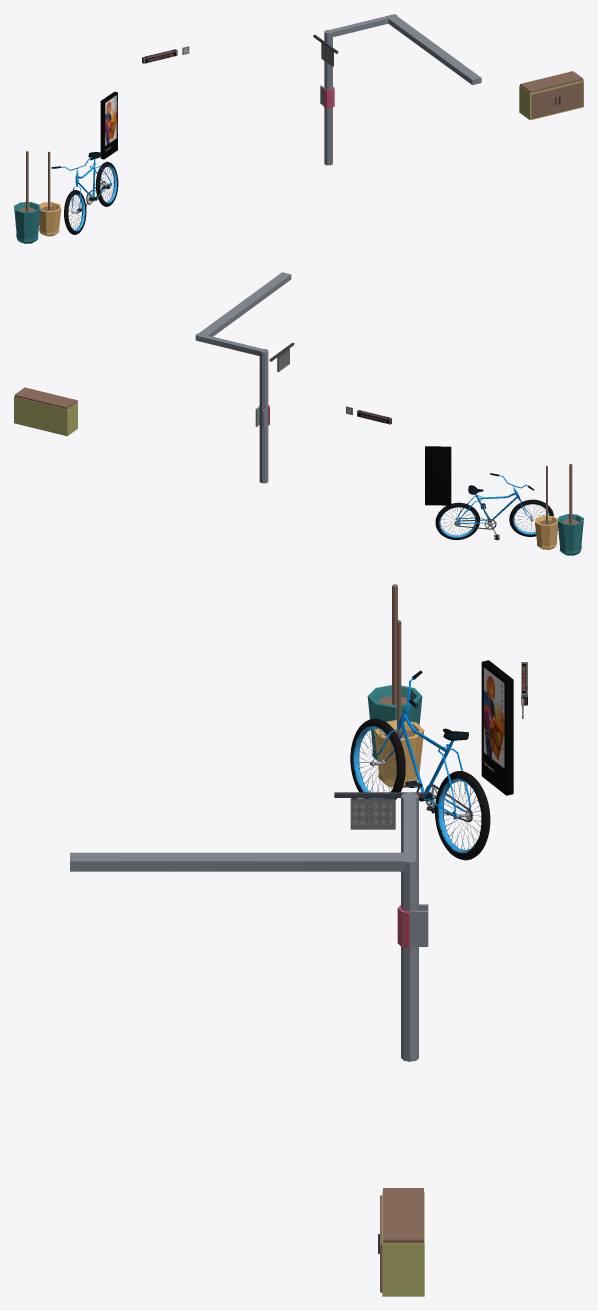
The model's file is MP_Corridor_Decor.fbx.
The picture shows the model from 3 angles, top to bottom: view 1: azimuth 30°, elevation 25°; view 2: azimuth 150°, elevation 25°; view 3: azimuth 270°, elevation 25°; orthographic projection. The views are drawn at different scales.
Parts seen in each view (by area): view 1: Pipe, ShoeDrawer, Blue Bicycle, Pot, Digital_Screen, Pots, Hanging_Signage; view 2: Pipe, ShoeDrawer, Blue Bicycle, Digital_Screen, Pot, Pots; view 3: Pipe, Blue Bicycle, ShoeDrawer, Digital_Screen, Pots, Pot, Hanging_Signage.
Part boxes in pixels (bbox=[...]): Pipe: bbox=[320, 14, 481, 165]; ShoeDrawer: bbox=[519, 71, 583, 120]; Blue Bicycle: bbox=[51, 152, 118, 234]; Pot: bbox=[14, 151, 40, 243]; Digital_Screen: bbox=[100, 91, 117, 159]; Pots: bbox=[39, 151, 61, 236]; Hanging_Signage: bbox=[313, 34, 338, 66]; Pipe: bbox=[195, 272, 291, 483]; ShoeDrawer: bbox=[14, 387, 77, 436]; Blue Bicycle: bbox=[435, 473, 553, 540]; Digital_Screen: bbox=[425, 446, 451, 505]; Pot: bbox=[557, 463, 583, 555]; Pots: bbox=[535, 466, 557, 549]; Pipe: bbox=[70, 792, 428, 1061]; Blue Bicycle: bbox=[350, 670, 490, 860]; ShoeDrawer: bbox=[378, 1188, 424, 1296]; Digital_Screen: bbox=[481, 660, 513, 795]; Pots: bbox=[374, 620, 424, 787]; Pot: bbox=[367, 584, 422, 760]; Hanging_Signage: bbox=[334, 792, 425, 829].
Size of the model in its own units: 939 by 209 by 332.
25 materials, 5 textured.
